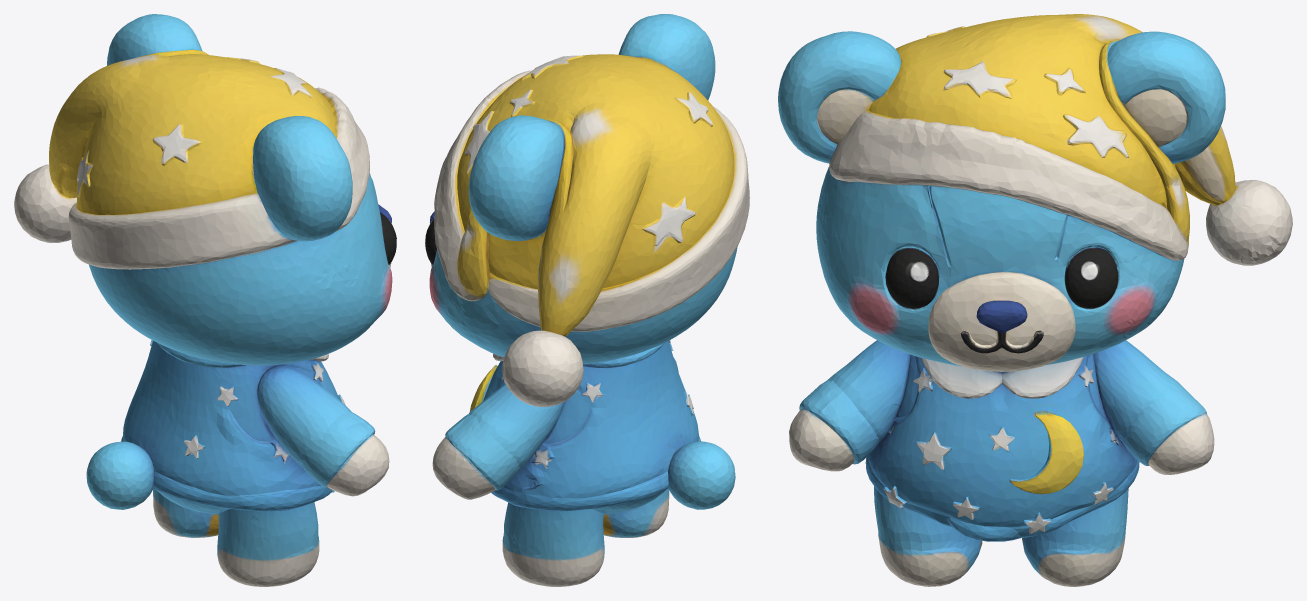
The model's file is toy_20.glb.
3 renders of one model, left to right at view 1: azimuth 30°, elevation 25°; view 2: azimuth 150°, elevation 25°; view 3: azimuth 270°, elevation 25°, orthographic. The views are drawn at different scales.
Parts seen in each view (by area): view 1: tripo_node_981c3c95-d0aa-4a95-807e-aca141b3fa8c; view 2: tripo_node_981c3c95-d0aa-4a95-807e-aca141b3fa8c; view 3: tripo_node_981c3c95-d0aa-4a95-807e-aca141b3fa8c.
Part boxes in pixels (<box>): tripo_node_981c3c95-d0aa-4a95-807e-aca141b3fa8c: <box>14,14,396,586</box>; tripo_node_981c3c95-d0aa-4a95-807e-aca141b3fa8c: <box>425,14,749,586</box>; tripo_node_981c3c95-d0aa-4a95-807e-aca141b3fa8c: <box>778,14,1292,586</box>.
Size of the model in its own units: 0.6356 by 1 by 0.8761.
1 material, 1 textured.
